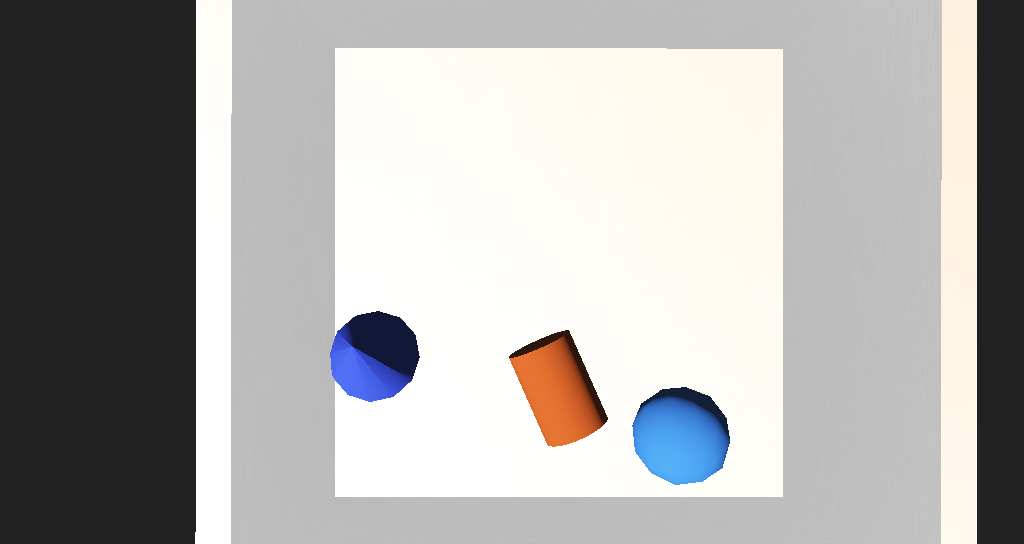cone: (472, 298, 539, 351)
cylinder: (340, 277, 414, 334)
sphere: (556, 320, 616, 367)
